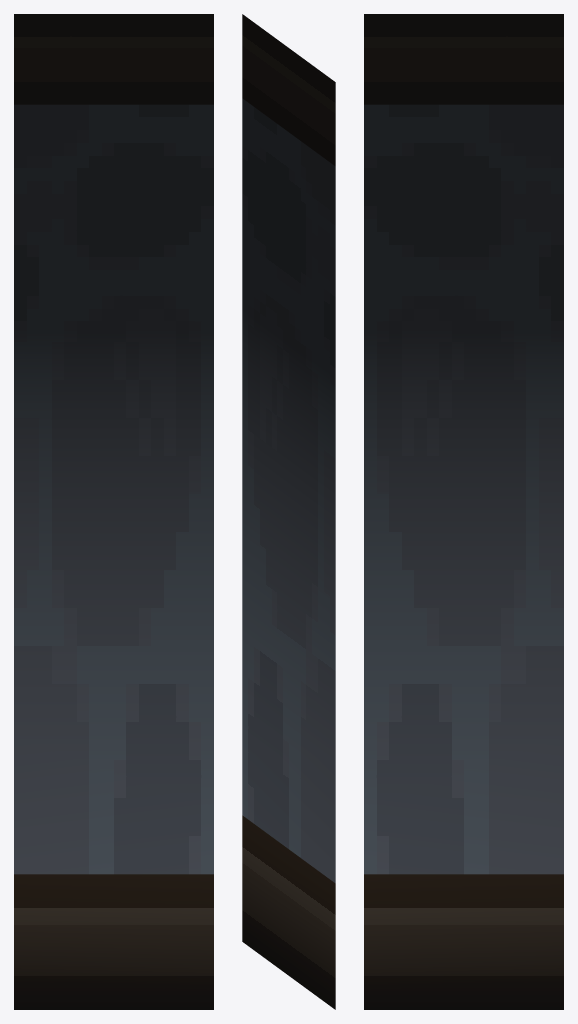
The picture shows the model from 3 angles, left to right: view 1: azimuth 90°, elevation 25°; view 2: azimuth 210°, elevation 25°; view 3: azimuth 270°, elevation 25°; orthographic projection. The views are drawn at different scales.
Bounding box in the file's own units: 0 × 5.5 × 1.
Materials: 2 (2 with a texture image).
